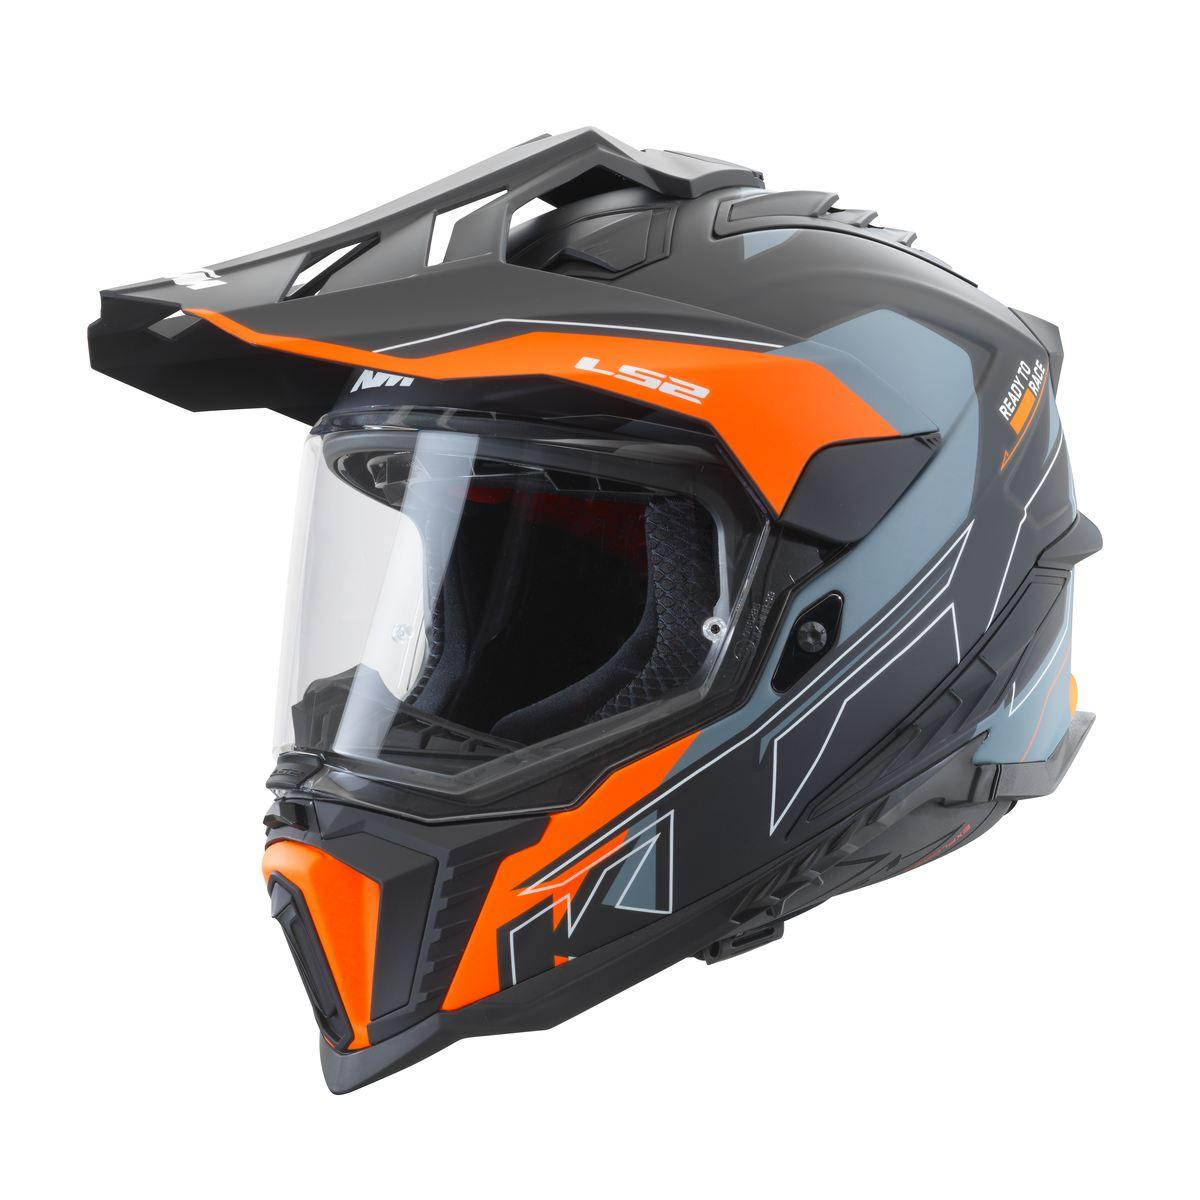helmet: (89, 129, 1101, 1092)
